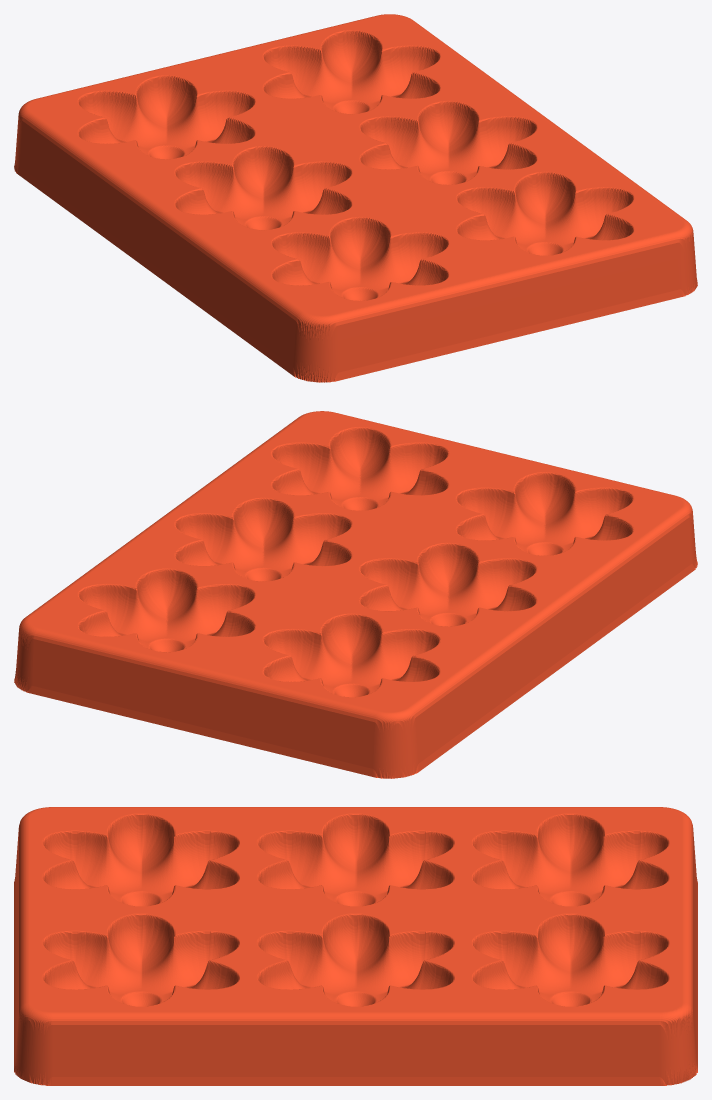
Rendered from mold.glb.
The picture shows the model from 3 angles, top to bottom: view 1: azimuth 30°, elevation 25°; view 2: azimuth 150°, elevation 25°; view 3: azimuth 270°, elevation 25°; orthographic projection. The views are drawn at different scales.
Parts seen in each view (by area): view 1: geometry_0; view 2: geometry_0; view 3: geometry_0.
Boxes of the visible parts, x1,y1,x2,y2 form: geometry_0: (14, 14, 697, 382); geometry_0: (14, 411, 697, 778); geometry_0: (14, 807, 697, 1085).
Size of the model in its own units: 0.1211 by 0.0175 by 0.1612.
